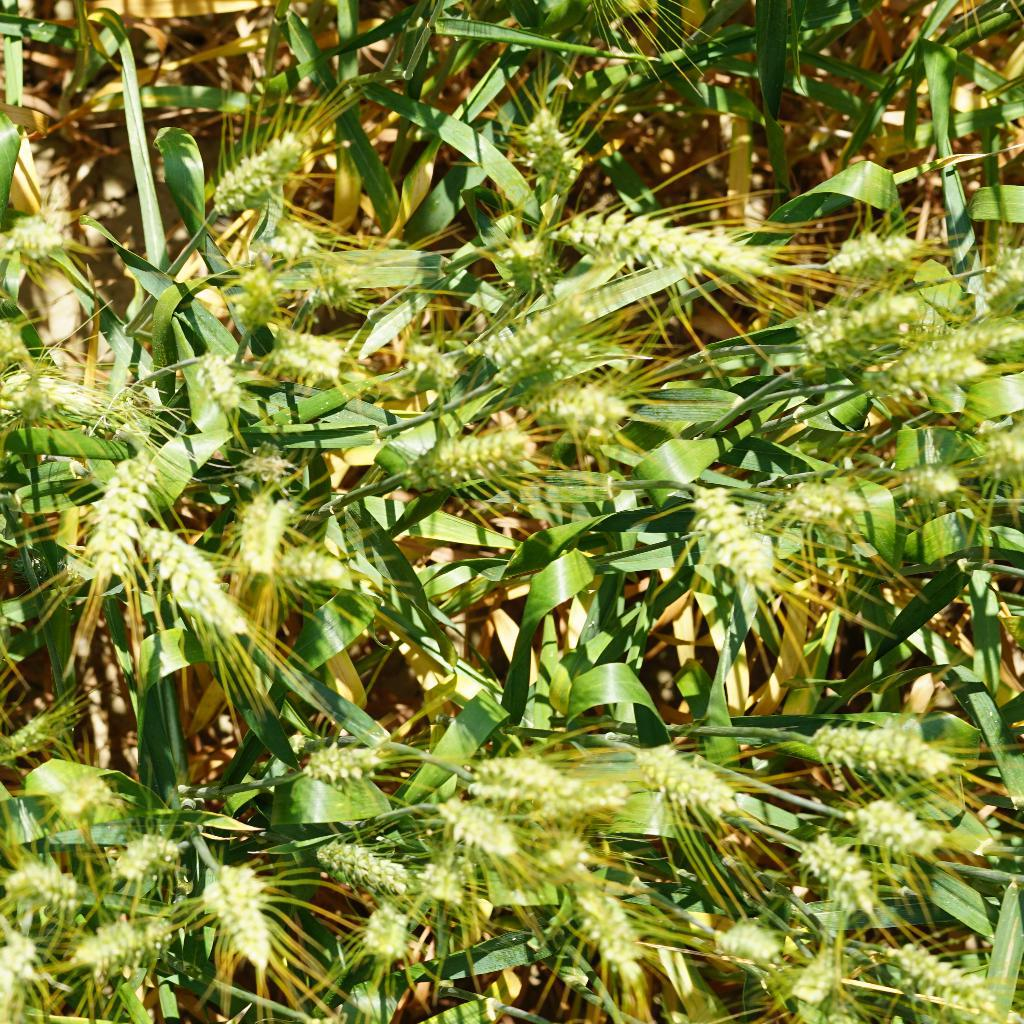0-0: (545, 189, 773, 288), (478, 289, 601, 393), (776, 301, 937, 380), (197, 858, 295, 982), (144, 530, 247, 647), (204, 124, 325, 219), (798, 709, 960, 778), (441, 742, 602, 811), (82, 444, 159, 585), (406, 411, 539, 488), (690, 475, 776, 589), (855, 337, 993, 408), (641, 744, 754, 826), (821, 793, 946, 866), (814, 213, 927, 288), (568, 874, 649, 976), (286, 531, 378, 619), (309, 829, 421, 900), (785, 833, 889, 909), (0, 365, 118, 431), (889, 931, 990, 1005), (70, 911, 171, 983), (507, 100, 583, 194), (516, 376, 631, 437), (488, 218, 563, 306), (220, 492, 291, 583), (695, 903, 788, 972), (0, 198, 77, 280), (768, 471, 863, 537), (266, 318, 354, 387), (881, 456, 968, 518), (40, 762, 122, 826), (443, 806, 529, 866), (287, 732, 385, 784), (933, 303, 1024, 358), (782, 954, 852, 1023), (296, 239, 366, 306), (225, 257, 288, 331), (968, 235, 1024, 318), (546, 773, 639, 821), (8, 856, 82, 916), (182, 340, 246, 407), (0, 930, 45, 1024), (4, 699, 70, 761), (524, 823, 598, 875), (362, 901, 418, 968), (393, 328, 464, 380), (119, 822, 175, 886), (963, 430, 1024, 485), (227, 440, 292, 489), (428, 862, 481, 909), (0, 305, 36, 374), (291, 1002, 396, 1024)
